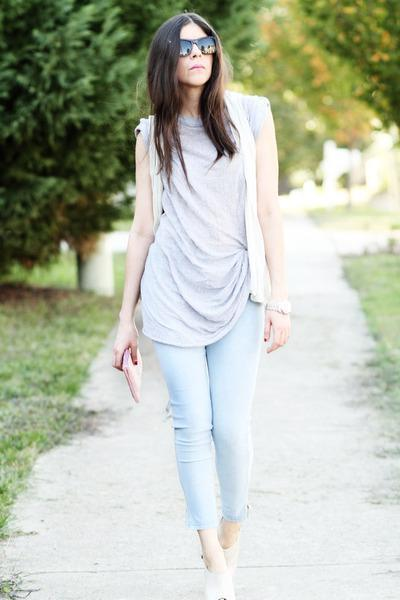jacket: (213, 140, 238, 164)
pants: (145, 332, 245, 530)
shirt: (135, 108, 271, 347)
shoe: (190, 547, 241, 599)
sunglass: (169, 19, 218, 70)
